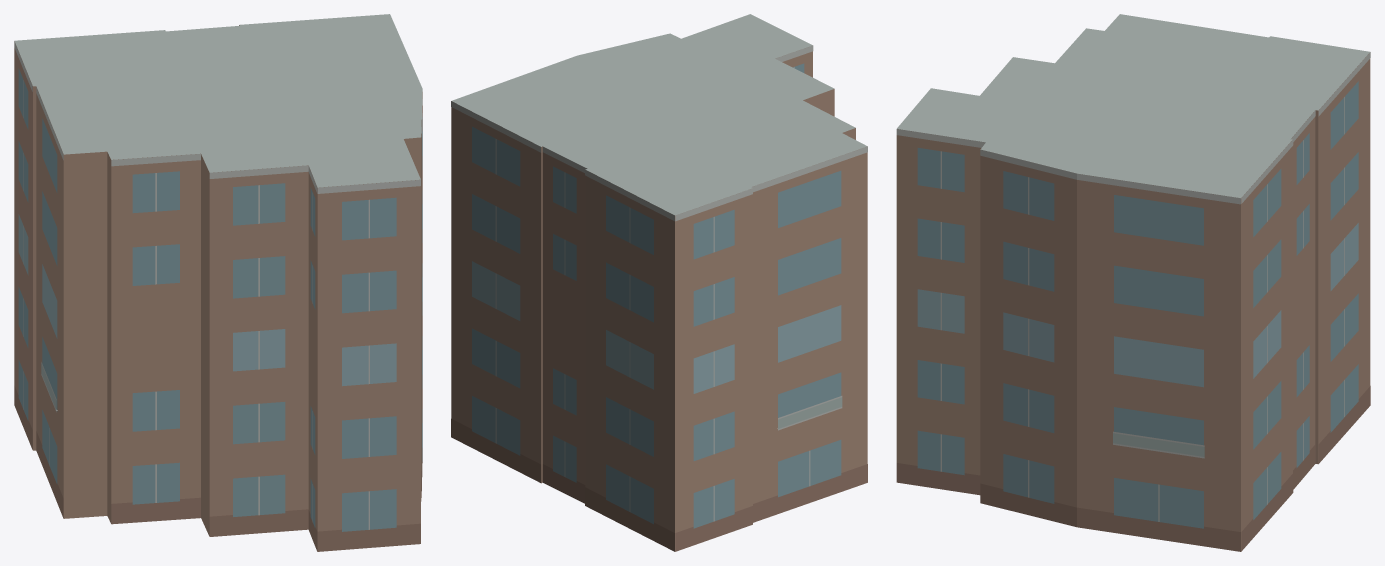
File: survey-upis-32641311.glb
The picture shows the model from 3 angles, left to right: view 1: azimuth 30°, elevation 25°; view 2: azimuth 150°, elevation 25°; view 3: azimuth 270°, elevation 25°; orthographic projection. The views are drawn at different scales.
Visible parts, largest first — view 1: survey-upis-32641311.tmp; view 2: survey-upis-32641311.tmp; view 3: survey-upis-32641311.tmp.
Boxes of the visible parts, <box> form: survey-upis-32641311.tmp: <box>14,14,422,551</box>; survey-upis-32641311.tmp: <box>451,14,867,551</box>; survey-upis-32641311.tmp: <box>896,14,1370,551</box>.
Size of the model in its own units: 15.42 by 13.8 by 16.77.
